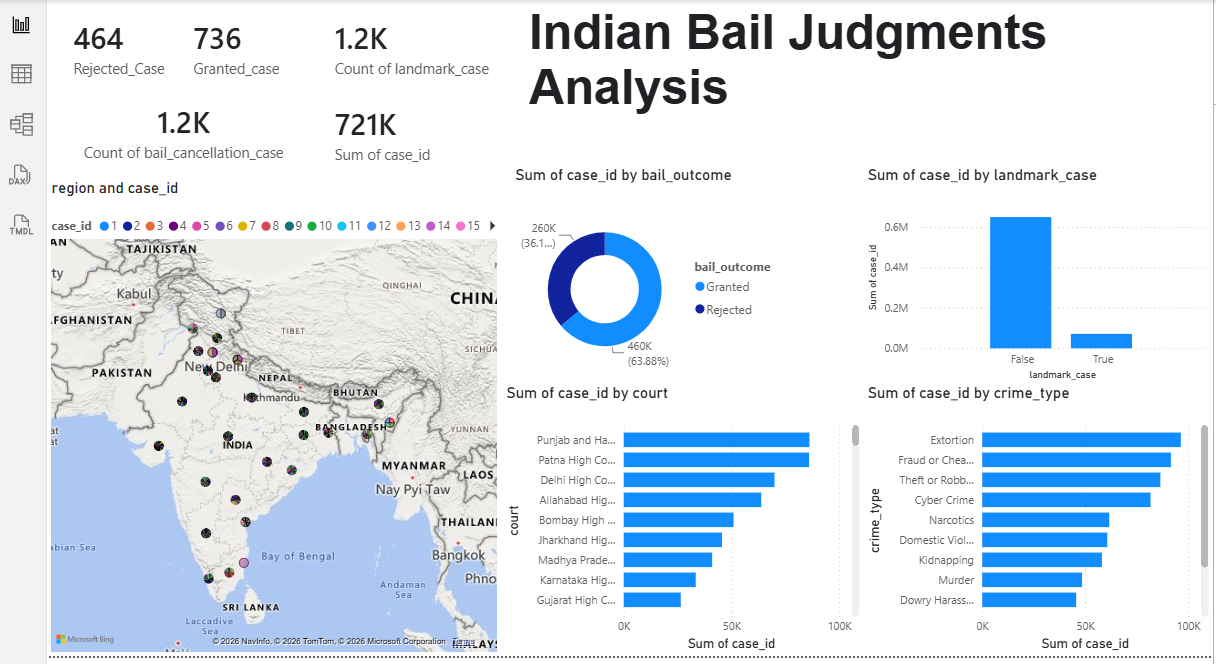

Layout of this report page (visuals, bound fields, positions):
{"tool":"powerbi","page":{"name":"Page 1","canvas":[1280,720],"ordinal":0},"visuals":[{"type":"cardVisual","fields":{"Data":["Sum(indian_bail_judgements_cleaned.case_id)"]},"box":[286.5,93.5,212.8,107],"z":0},{"type":"cardVisual","fields":{"Data":["CountNonNull(indian_bail_judgements_cleaned.bail_cancellation_case)"]},"box":[0,93.5,300.1,102.1],"z":1},{"type":"cardVisual","fields":{"Data":["CountNonNull(indian_bail_judgements_cleaned.landmark_case)"]},"box":[286.5,0,237.4,105.8],"z":2},{"type":"cardVisual","fields":{"Data":["indian_bail_judgements_cleaned.Granted_case"]},"box":[131.6,0,155,105.8],"z":3},{"type":"donutChart","fields":{"Category":["indian_bail_judgements_cleaned.bail_outcome"],"Y":["Sum(indian_bail_judgements_cleaned.case_id)"]},"box":[508.7,181,299.6,240.9],"z":4},{"type":"cardVisual","fields":{"Data":["indian_bail_judgements_cleaned.Rejected_Case"]},"box":[0,0,159.9,105.8],"z":5},{"type":"barChart","fields":{"Category":["indian_bail_judgements_cleaned.crime_type"],"Y":["Sum(indian_bail_judgements_cleaned.case_id)"]},"box":[896.3,421.9,384,298.4],"z":6},{"type":"barChart","fields":{"Category":["indian_bail_judgements_cleaned.court"],"Y":["Sum(indian_bail_judgements_cleaned.case_id)"]},"box":[498.9,421.9,397.4,298.4],"z":7},{"type":"map","fields":{"Category":["indian_bail_judgements_cleaned.region"],"Series":["indian_bail_judgements_cleaned.case_id"]},"box":[0,195.5,499.3,525.1],"z":8},{"type":"columnChart","fields":{"Category":["indian_bail_judgements_cleaned.landmark_case"],"Y":["Sum(indian_bail_judgements_cleaned.case_id)"]},"box":[896.5,180.8,383.7,241],"z":9},{"type":"textbox","box":[523.9,0,756.3,150],"z":10}]}

Visuals, with their boxes on the page's 1280x720 design canvas (x1, y1, x2, y2). These are canvas units, not pixel positions in the 1216x664 screenshot, which may show the page scaled, cropped or inside an application window:
cardVisual - Sum(indian_bail_judgements_cleaned.case_id): pyautogui.locateOnScreen(286, 94, 499, 200)
cardVisual - CountNonNull(indian_bail_judgements_cleaned.bail_cancellation_case): pyautogui.locateOnScreen(0, 94, 300, 196)
cardVisual - CountNonNull(indian_bail_judgements_cleaned.landmark_case): pyautogui.locateOnScreen(286, 0, 524, 106)
cardVisual - indian_bail_judgements_cleaned.Granted_case: pyautogui.locateOnScreen(132, 0, 287, 106)
donutChart - indian_bail_judgements_cleaned.bail_outcome x Sum(indian_bail_judgements_cleaned.case_id): pyautogui.locateOnScreen(509, 181, 808, 422)
cardVisual - indian_bail_judgements_cleaned.Rejected_Case: pyautogui.locateOnScreen(0, 0, 160, 106)
barChart - indian_bail_judgements_cleaned.crime_type x Sum(indian_bail_judgements_cleaned.case_id): pyautogui.locateOnScreen(896, 422, 1280, 720)
barChart - indian_bail_judgements_cleaned.court x Sum(indian_bail_judgements_cleaned.case_id): pyautogui.locateOnScreen(499, 422, 896, 720)
map - indian_bail_judgements_cleaned.region x indian_bail_judgements_cleaned.case_id: pyautogui.locateOnScreen(0, 196, 499, 721)
columnChart - indian_bail_judgements_cleaned.landmark_case x Sum(indian_bail_judgements_cleaned.case_id): pyautogui.locateOnScreen(896, 181, 1280, 422)
textbox: pyautogui.locateOnScreen(524, 0, 1280, 150)
